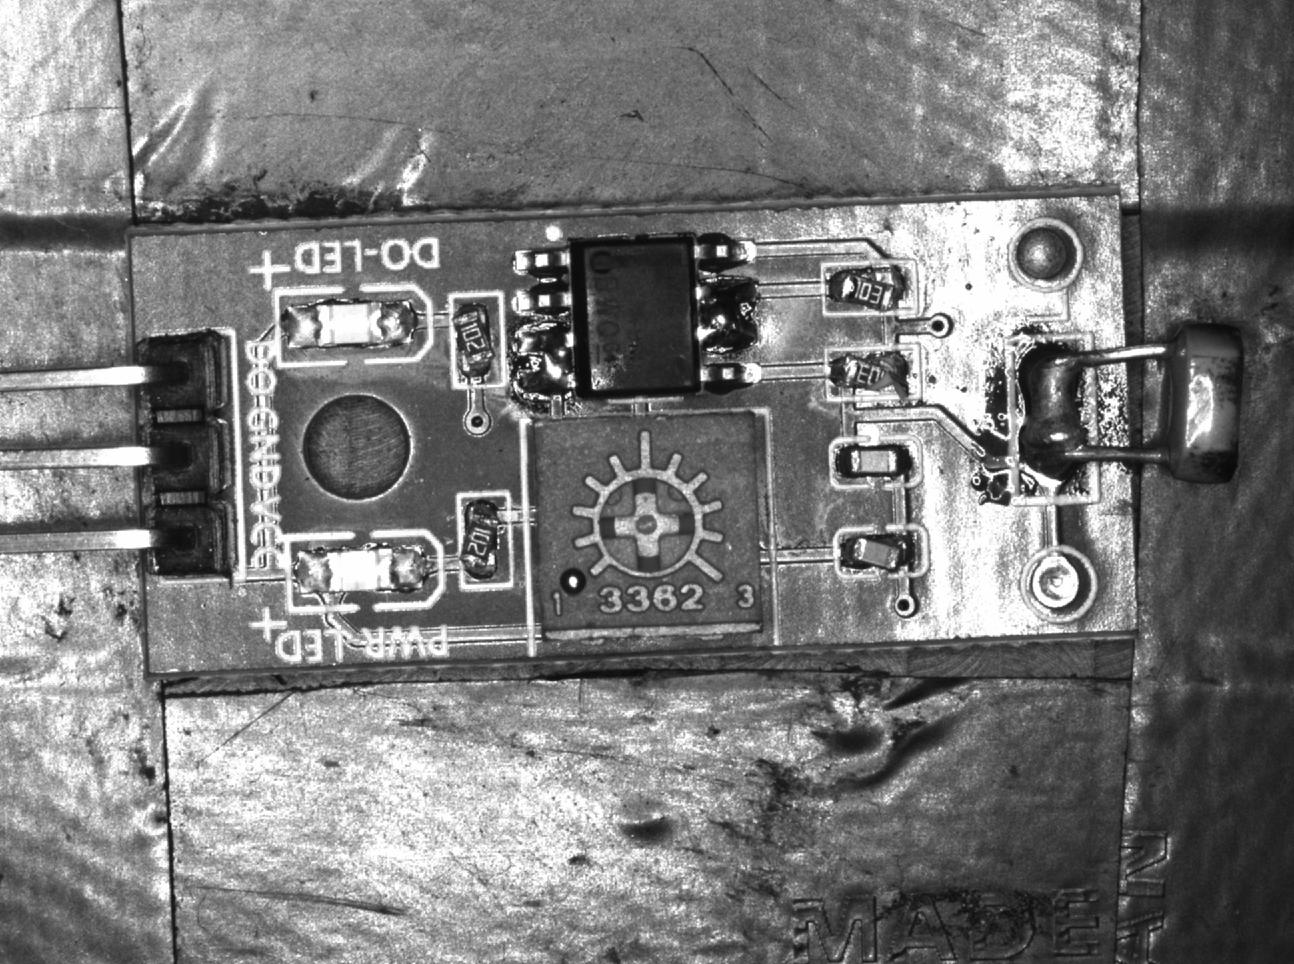bridge: (1008, 341, 1100, 500), (691, 263, 761, 353), (514, 311, 571, 409)
lifted: (455, 487, 516, 593), (452, 294, 505, 391), (819, 265, 919, 317), (827, 347, 921, 400), (834, 526, 931, 576)
ok: (830, 439, 917, 486)
